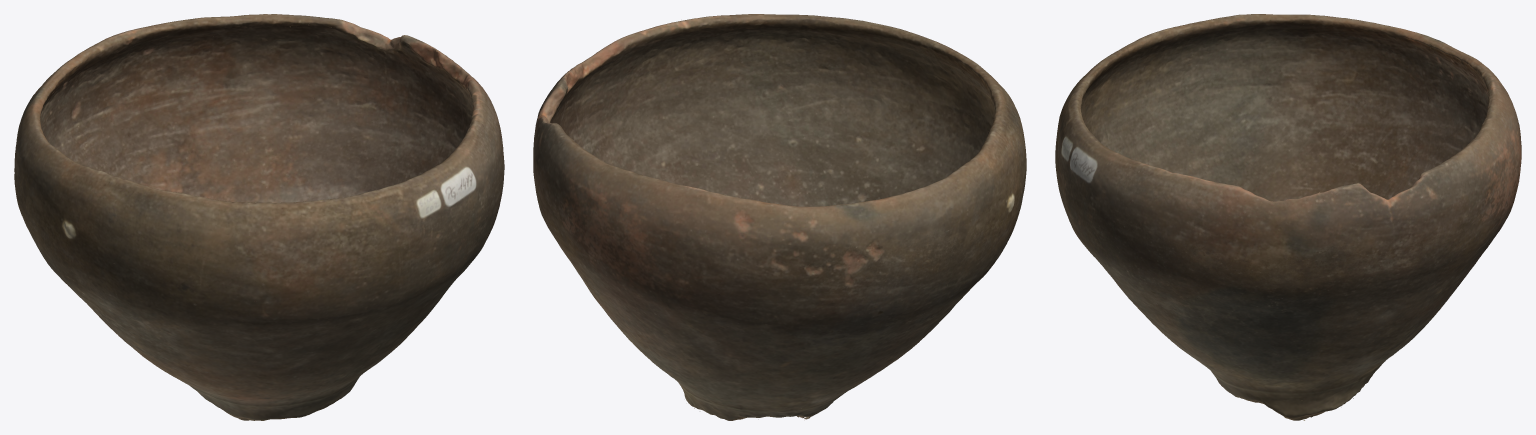
3 views of the same model, side by side, from view 1: azimuth 30°, elevation 25°; view 2: azimuth 150°, elevation 25°; view 3: azimuth 270°, elevation 25° (orthographic). The views are drawn at different scales.
Visible parts, largest first — view 1: Object_2, Object_3; view 2: Object_2, Object_3; view 3: Object_2, Object_3.
Part boxes in pixels (box(x1,y1,x2,y2)): Object_2: box(14, 14, 504, 420); Object_3: box(14, 14, 503, 419); Object_2: box(533, 14, 1026, 420); Object_3: box(535, 15, 1025, 420); Object_2: box(1055, 29, 1521, 420); Object_3: box(1056, 14, 1520, 420).
Size of the model in its own units: 0.3132 by 0.2165 by 0.3126.
Materials: 1 (1 with a texture image).
